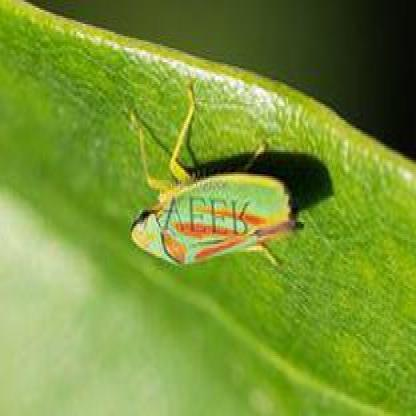green-leafhopper: (129, 154, 294, 271)
